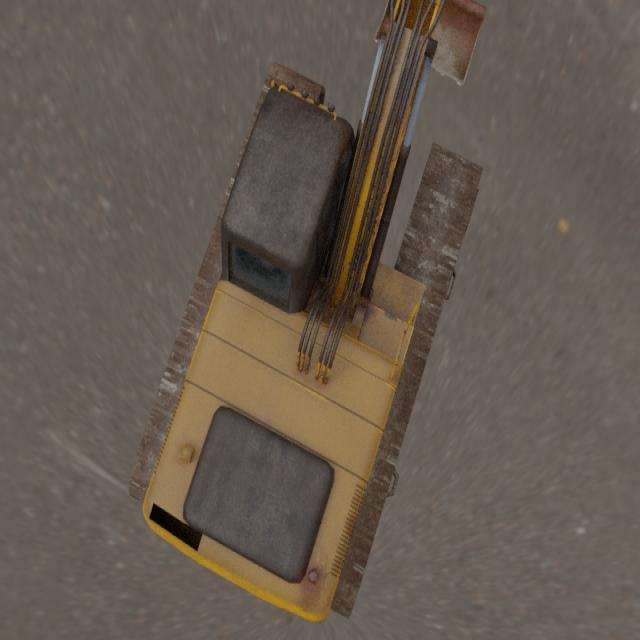excavator: (128, 0, 487, 625)
